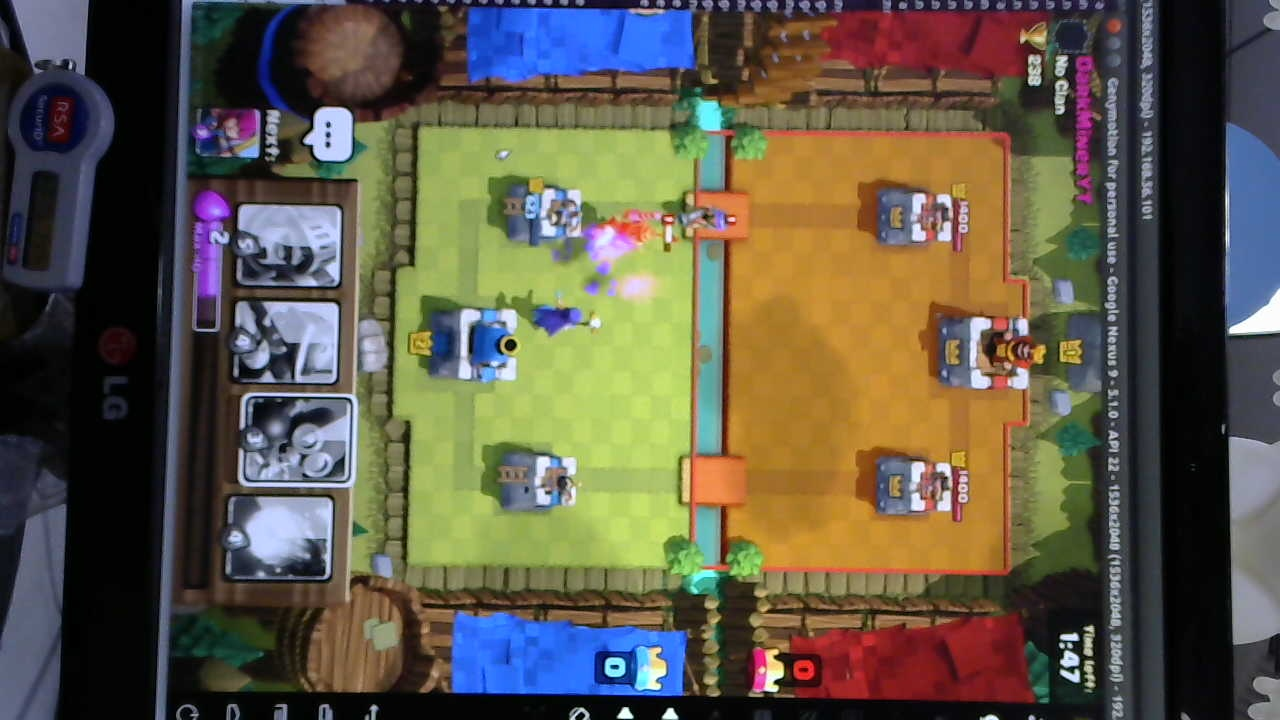arena: (497, 180, 588, 245), (500, 450, 583, 511)
earena: (876, 187, 955, 249), (877, 457, 954, 520)
eking: (930, 313, 1039, 390)
king: (430, 303, 522, 385)
musketeer: (671, 204, 735, 234)
prince: (594, 208, 668, 250)
witch: (533, 301, 606, 339)
